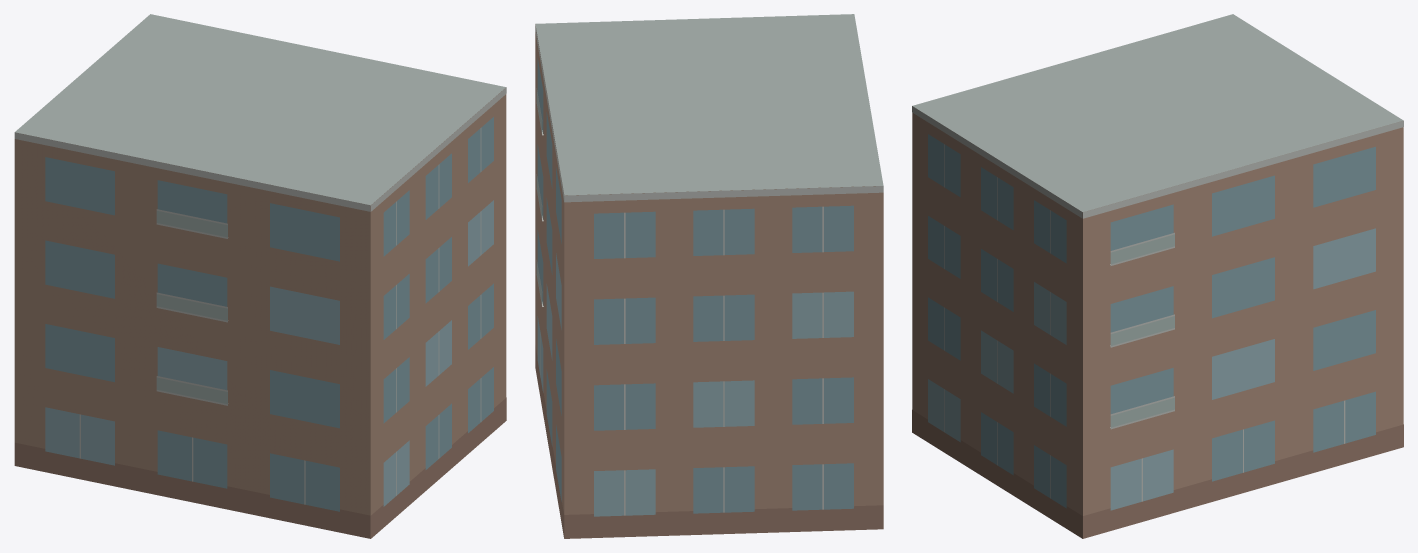
File: residential-6f5738e7-4655-44c7-8652-59868643b87e.glb
3 views of the same model, side by side, from view 1: azimuth 30°, elevation 25°; view 2: azimuth 150°, elevation 25°; view 3: azimuth 270°, elevation 25° (orthographic). The views are drawn at different scales.
Visible parts, largest first — view 1: residential-6f5738e7-4655-44c7-8652-59868643b87e.tmp; view 2: residential-6f5738e7-4655-44c7-8652-59868643b87e.tmp; view 3: residential-6f5738e7-4655-44c7-8652-59868643b87e.tmp.
Part boxes in pixels (box(x1,y1,x2,y2)): residential-6f5738e7-4655-44c7-8652-59868643b87e.tmp: box(14, 14, 506, 538); residential-6f5738e7-4655-44c7-8652-59868643b87e.tmp: box(535, 14, 883, 538); residential-6f5738e7-4655-44c7-8652-59868643b87e.tmp: box(912, 14, 1403, 538).
Bounding box in the file's own units: 15.89 × 12.2 × 16.65.
